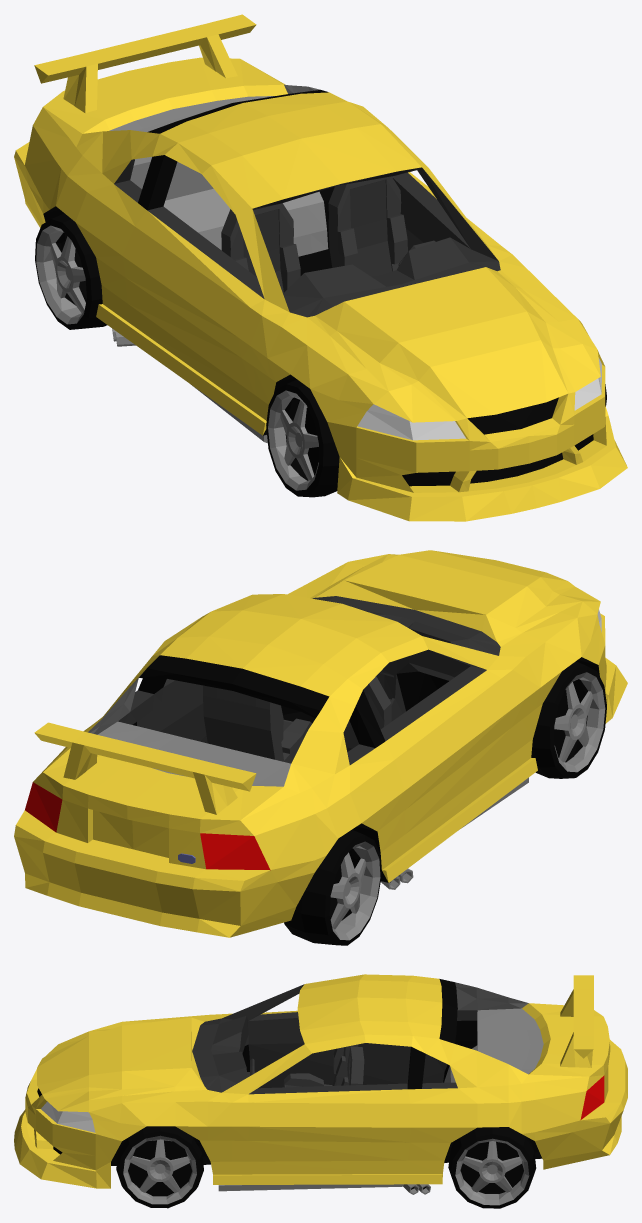
File: ford_mustang.glb
The picture shows the model from 3 angles, top to bottom: view 1: azimuth 30°, elevation 25°; view 2: azimuth 150°, elevation 25°; view 3: azimuth 270°, elevation 25°; orthographic projection. The views are drawn at different scales.
Visible parts, largest first — view 1: Cube_2, Cube.002_10, Circle.002_5, Plane_4, Circle_3; view 2: Cube_2, Circle_3, Circle.002_5, Cube.002_10, Plane_4; view 3: Cube_2, Circle_3, Circle.002_5, Plane_4, Cube.002_10, Circle.003_6.
Part boxes in pixels (x1,y1,x2,y2): Cube_2: [14, 57, 627, 521]; Cube.002_10: [221, 176, 407, 293]; Circle.002_5: [266, 379, 606, 497]; Plane_4: [34, 14, 256, 113]; Circle_3: [35, 213, 107, 329]; Cube_2: [14, 550, 627, 937]; Circle_3: [284, 829, 381, 945]; Circle.002_5: [531, 661, 606, 778]; Cube.002_10: [203, 676, 391, 763]; Plane_4: [34, 722, 256, 814]; Cube_2: [14, 974, 627, 1188]; Circle_3: [448, 1127, 536, 1208]; Circle.002_5: [116, 1126, 203, 1208]; Plane_4: [560, 975, 593, 1067]; Cube.002_10: [282, 1044, 364, 1087]; Circle.003_6: [218, 1184, 430, 1194].
Size of the model in its own units: 1.28 by 0.9188 by 3.15.
